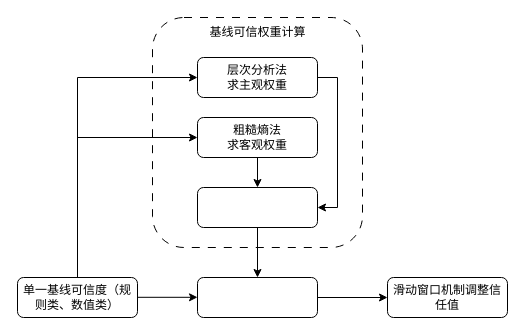
The diagram is 525 pixels wide and 335 high, and some of its shapes have lost their labels. The box of each missing label's shape, as (x1, y1, x2, y2) in pixels:
组合权重求解: (196, 186, 318, 228)
终端整体可信度计算: (196, 276, 318, 318)
